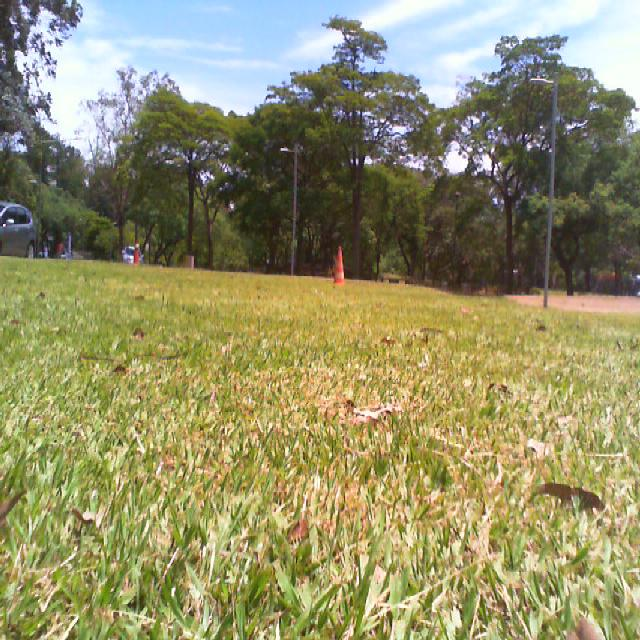cone: (333, 245, 347, 284), (133, 240, 140, 265)
